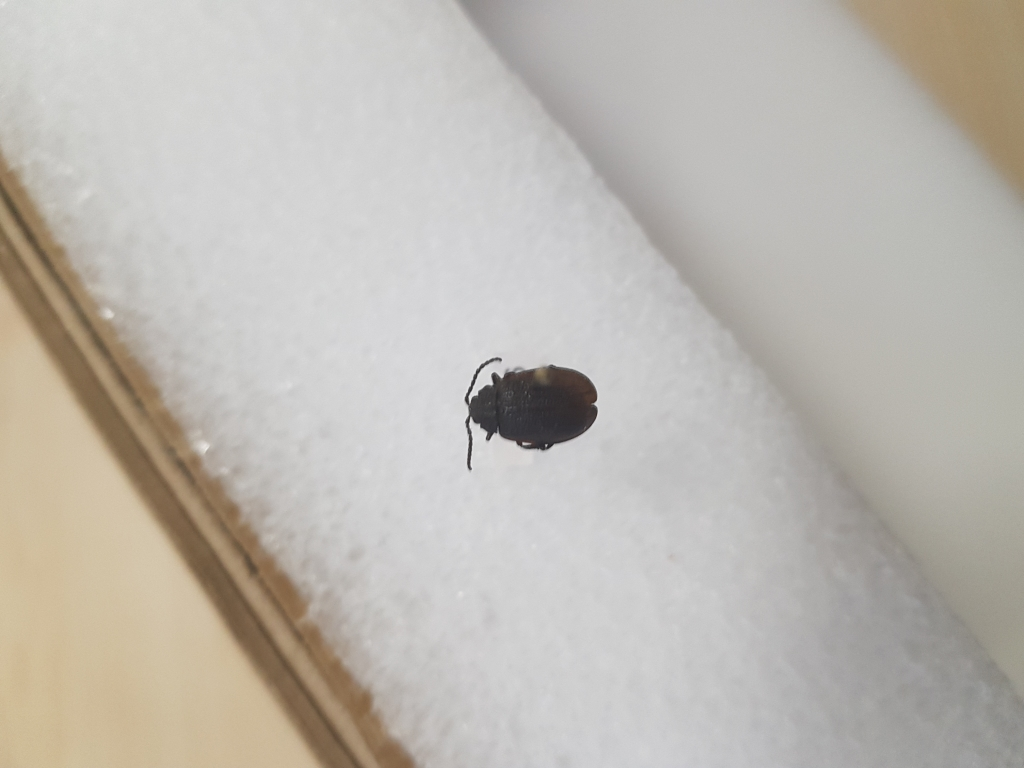Galeruca_tanaceti: (462, 350, 606, 476)
